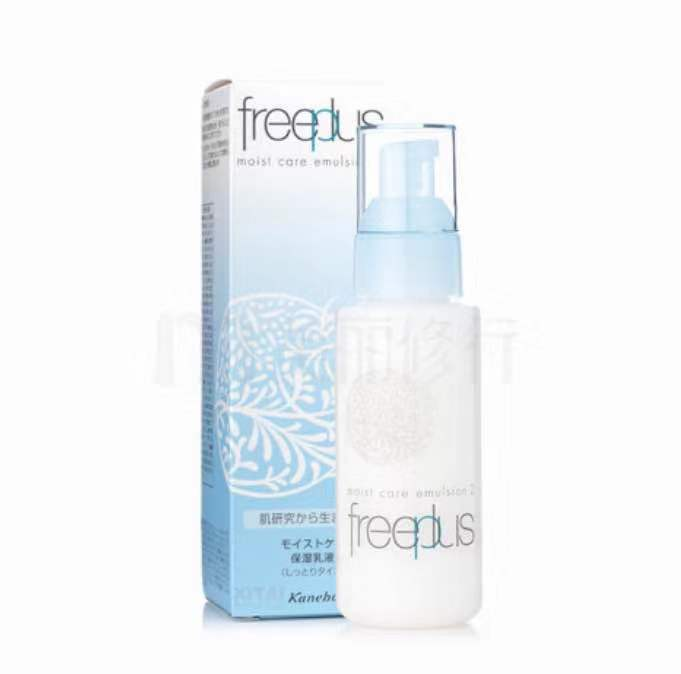cosmetic: (332, 121, 484, 625)
